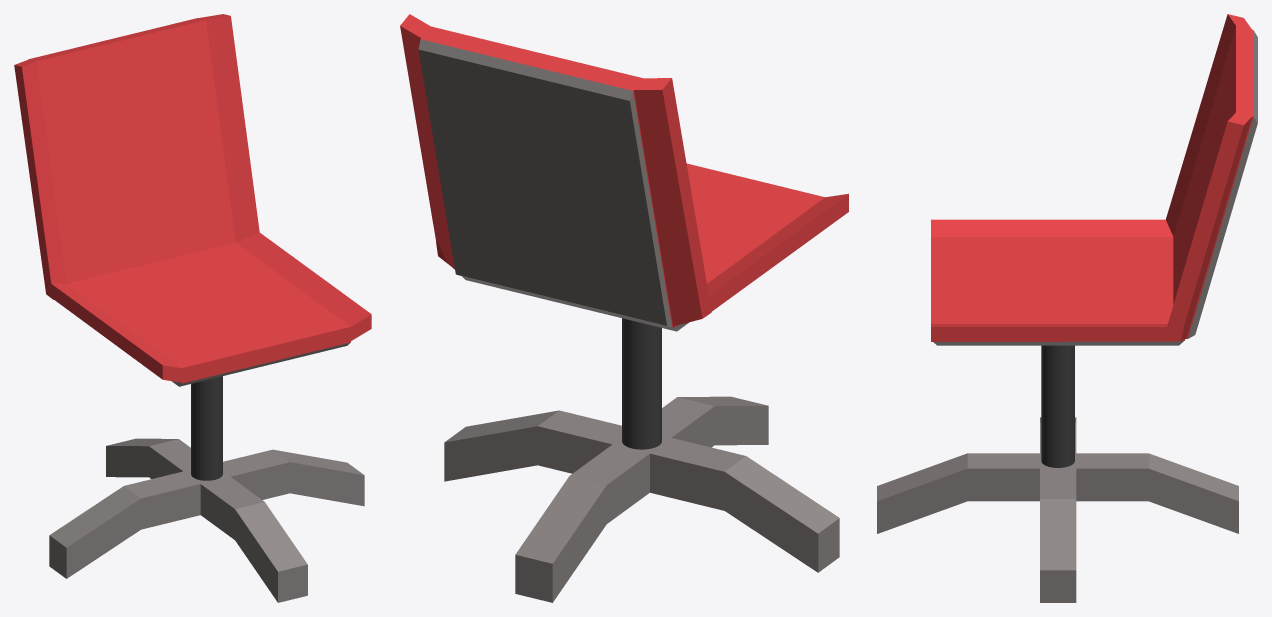
Rendered from Chair.fbx.
3 renders of one model, left to right at view 1: azimuth 30°, elevation 25°; view 2: azimuth 150°, elevation 25°; view 3: azimuth 270°, elevation 25°, orthographic. The views are drawn at different scales.
Visible parts, largest first — view 1: Cube; view 2: Cube; view 3: Cube.
Boxes of the visible parts, x1,y1,x2,y2 form: Cube: [14, 14, 371, 602]; Cube: [400, 14, 848, 602]; Cube: [877, 14, 1257, 602].
Bounding box in the file's own units: 200 × 280 × 210.
